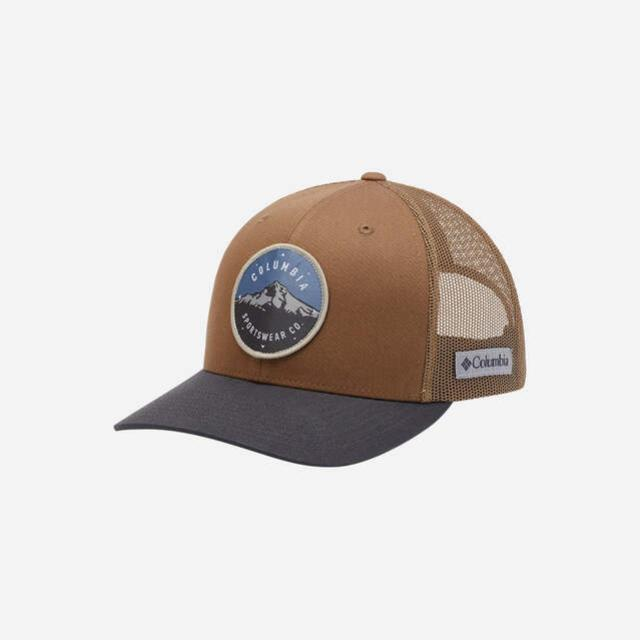Nonhelmet: (111, 167, 530, 470)
